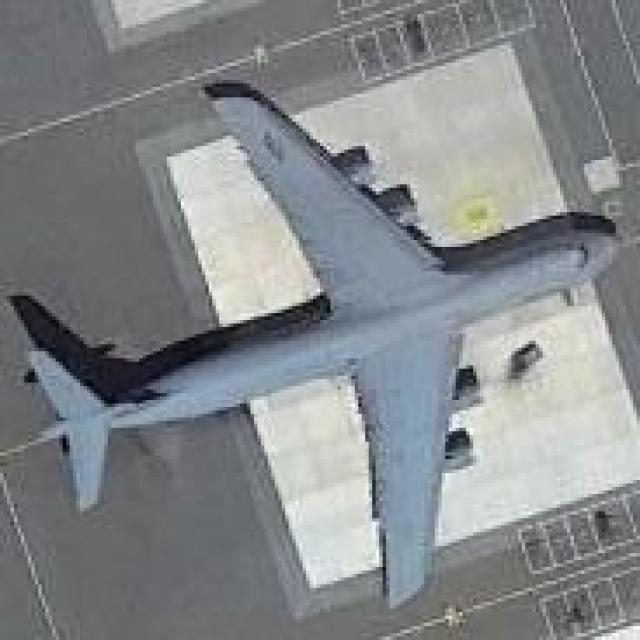C-5_TopDown: (0, 66, 637, 619)
